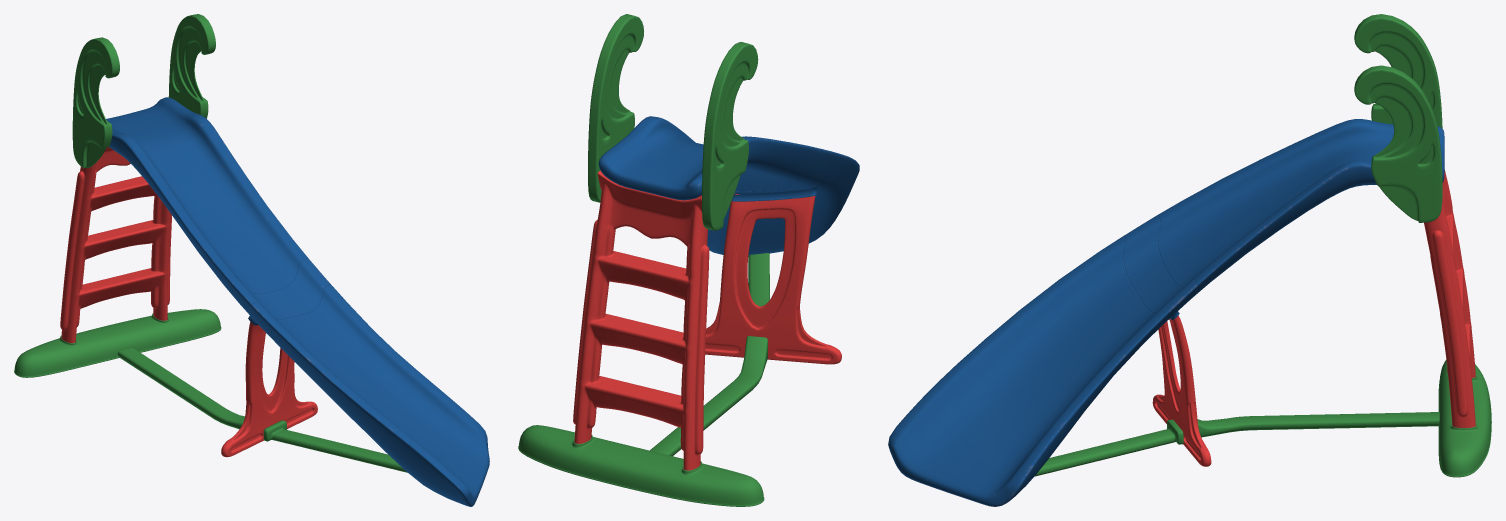
Rendered from uploads-files-6107920-Kids_Slide.glb.
The picture shows the model from 3 angles, left to right: view 1: azimuth 30°, elevation 25°; view 2: azimuth 150°, elevation 25°; view 3: azimuth 270°, elevation 25°; orthographic projection. The views are drawn at different scales.
Parts seen in each view (by area): view 1: Kids_Slide; view 2: Kids_Slide; view 3: Kids_Slide.
Boxes of the visible parts, bbox=[...] form: Kids_Slide: bbox=[14, 14, 489, 506]; Kids_Slide: bbox=[518, 14, 859, 506]; Kids_Slide: bbox=[888, 14, 1491, 506].
Bounding box in the file's own units: 1.01 × 1.25 × 1.79.
1 material, 1 textured.
